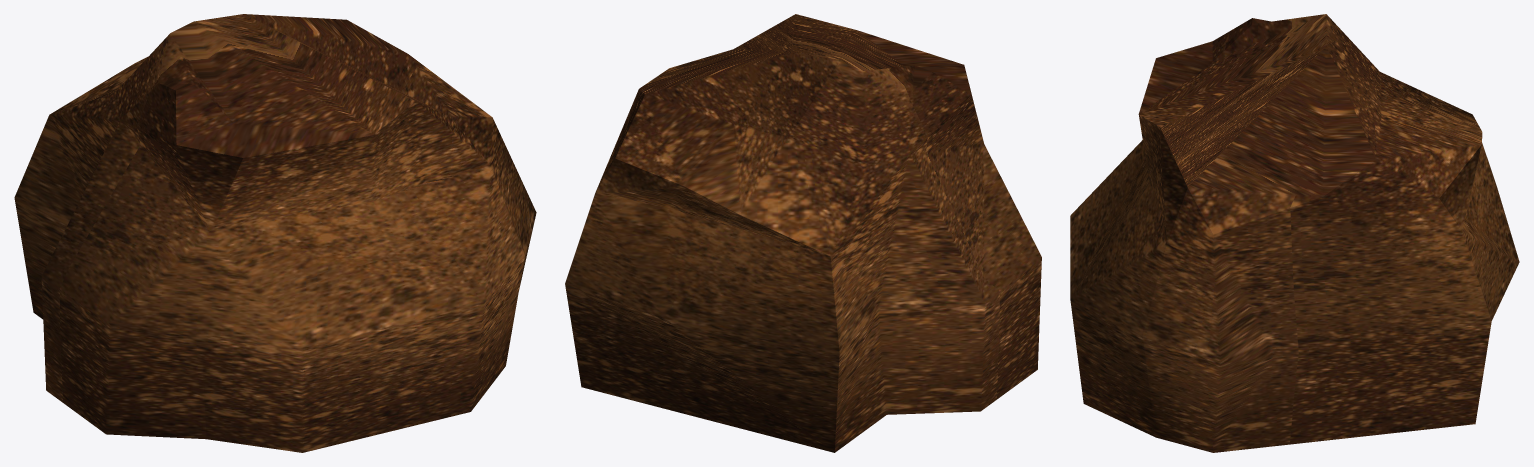
File: Medium_Rock.fbx
3 renders of one model, left to right at view 1: azimuth 30°, elevation 25°; view 2: azimuth 150°, elevation 25°; view 3: azimuth 270°, elevation 25°, orthographic. The views are drawn at different scales.
Visible parts, largest first — view 1: Rock_Medium; view 2: Rock_Medium; view 3: Rock_Medium.
Part boxes in pixels (bbox=[...]): Rock_Medium: bbox=[14, 14, 536, 452]; Rock_Medium: bbox=[565, 14, 1041, 452]; Rock_Medium: bbox=[1070, 14, 1519, 452].
Bounding box in the file's own units: 1.82 × 1.32 × 1.71.
